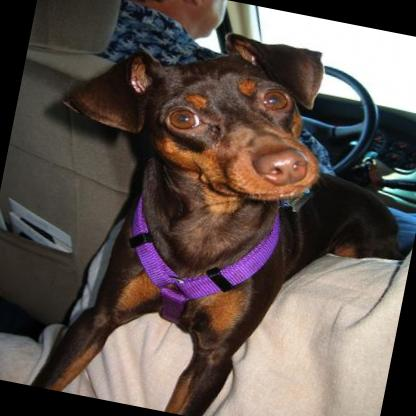miniature_pinscher: (2, 0, 416, 416)
